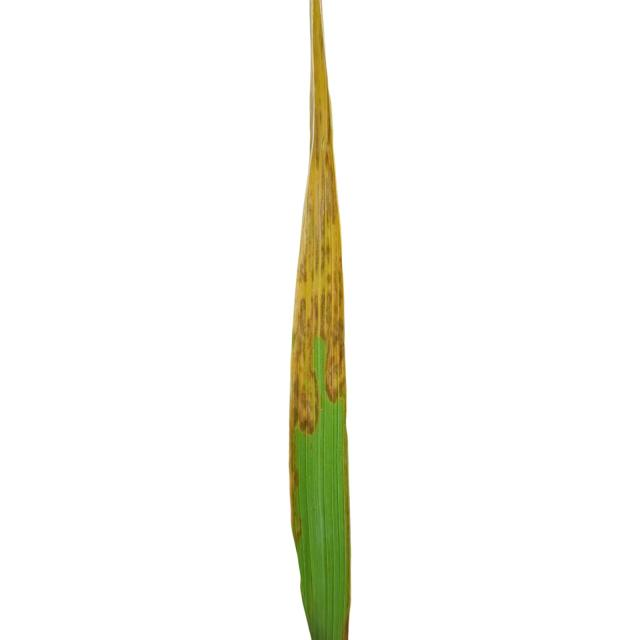Leaf scald: (218, 0, 452, 640)
